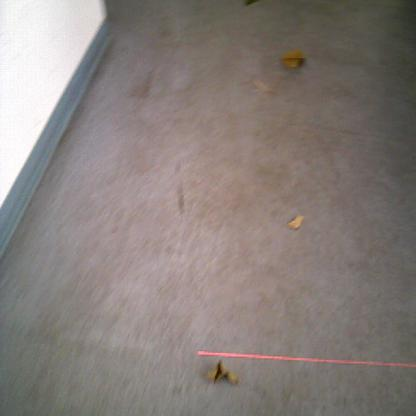dirty: (199, 358, 242, 386), (279, 49, 307, 70), (252, 80, 277, 94), (285, 213, 304, 231), (244, 1, 258, 8)
mark: (127, 69, 155, 99), (173, 161, 185, 213)
